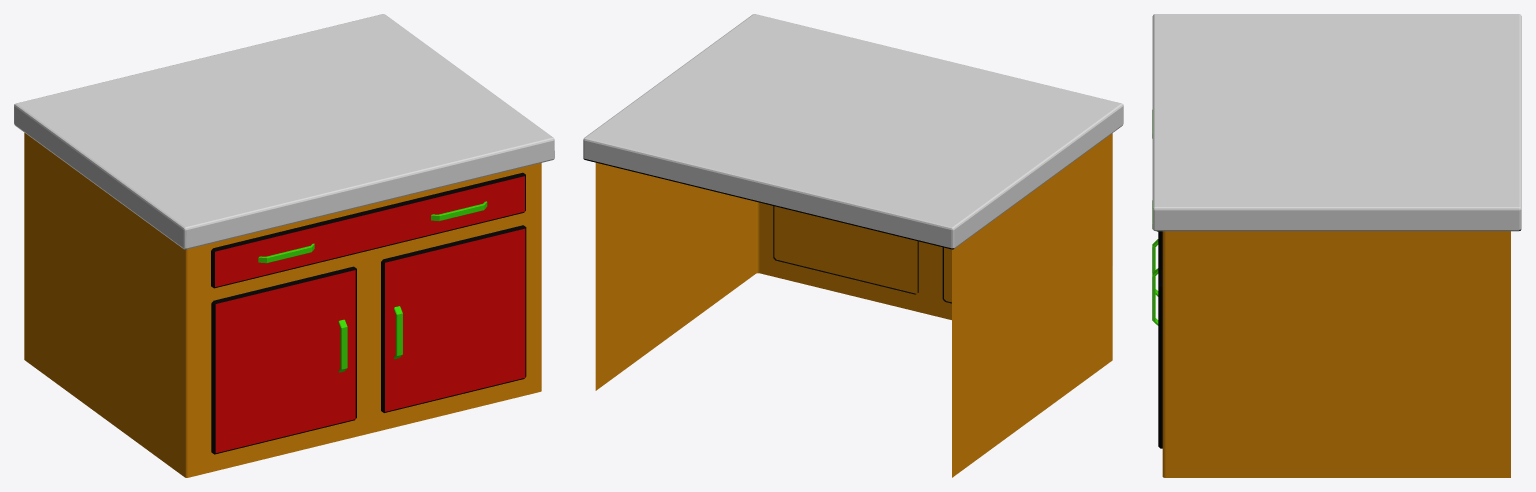
The model's file is SM_TableMiroir.fbx.
3 renders of one model, left to right at view 1: azimuth 30°, elevation 25°; view 2: azimuth 150°, elevation 25°; view 3: azimuth 270°, elevation 25°, orthographic. The views are drawn at different scales.
Parts seen in each view (by area): view 1: pCube256; view 2: pCube256; view 3: pCube256.
Boxes of the visible parts, box(x1,y1,x2,y2) form: pCube256: box(14, 14, 554, 477); pCube256: box(583, 14, 1123, 477); pCube256: box(1152, 14, 1521, 477).
Size of the model in its own units: 138 by 90.44 by 110.
